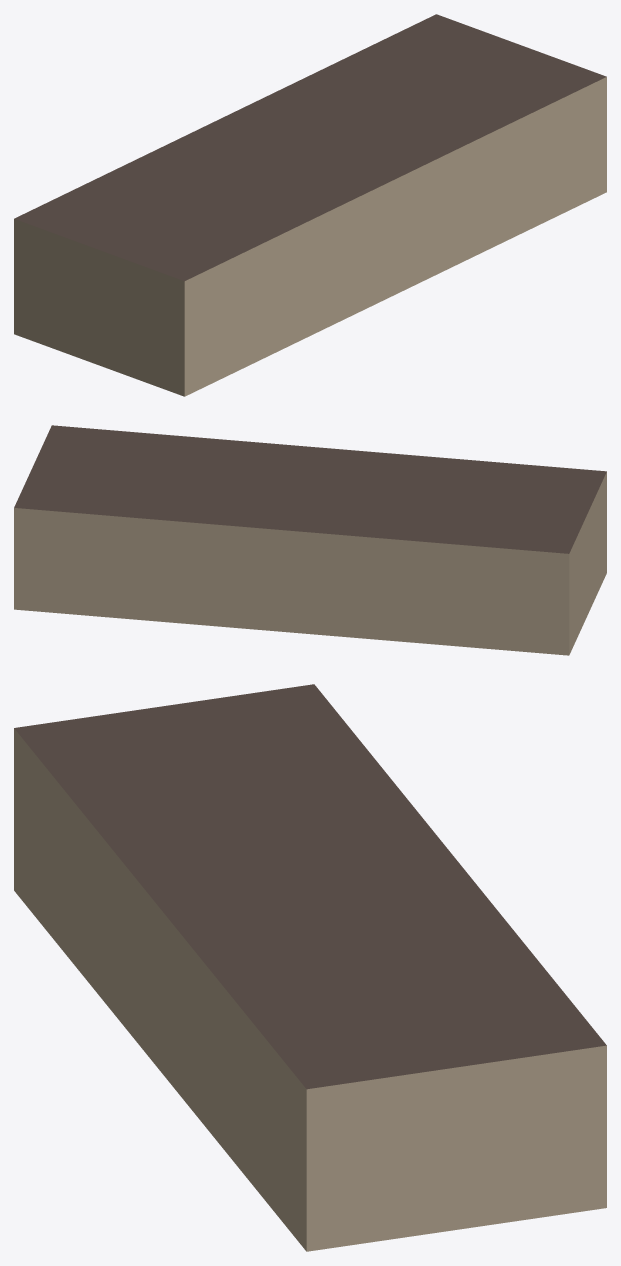
3 views of the same model, one above another, from view 1: azimuth 30°, elevation 25°; view 2: azimuth 150°, elevation 25°; view 3: azimuth 270°, elevation 25° (orthographic). The views are drawn at different scales.
Visible parts, largest first — view 1: HP-w1544735763; view 2: HP-w1544735763; view 3: HP-w1544735763.
Part boxes in pixels (box(x1,y1,x2,y2)): HP-w1544735763: box(14, 14, 606, 396); HP-w1544735763: box(14, 425, 606, 655); HP-w1544735763: box(14, 684, 606, 1251).
Bounding box in the file's own units: 48.13 × 9 × 29.77.
